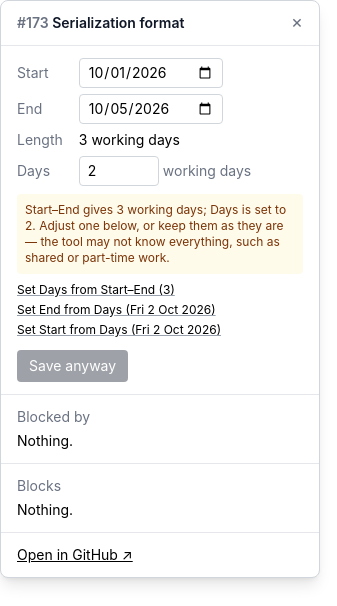
Test: TaskDetail › Days › Set End from Days fills the End box from Start + Days, and waits for Save
Replace the text in the number field with id "detail-days" with "10" at (119, 171), box [79, 156, 159, 186]
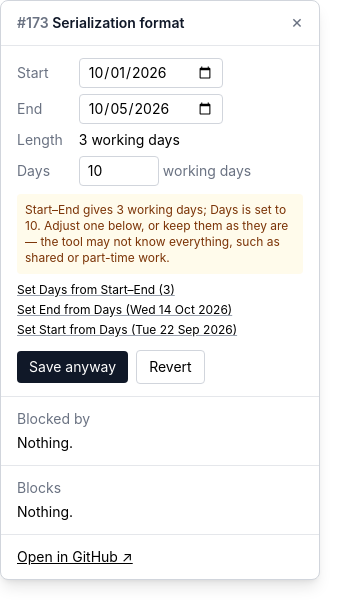
Now the button "Set End from Days (Wed 14 Oct 2026)" is shown
Click the button "Set End from Days (Wed 14 Oct 2026)".
click(125, 310)  # box [17, 302, 232, 318]
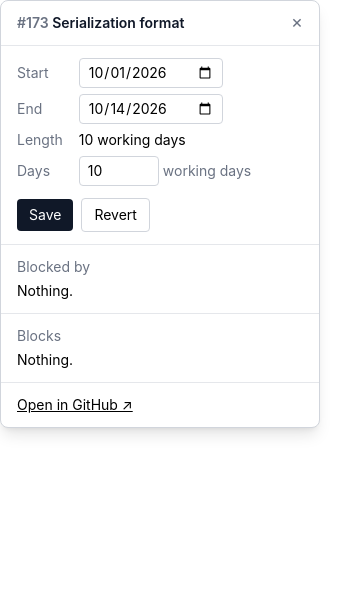
Now the date field with id "detail-due" holds "2026-10-14", box [79, 94, 223, 124]
Now the button "Save" is shown, box [17, 199, 73, 231]
